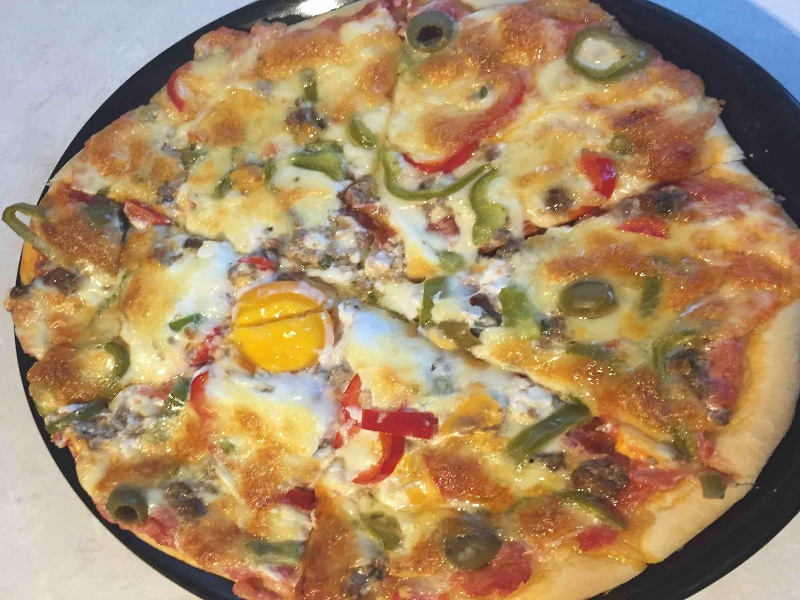oeuf: (219, 280, 348, 387)
